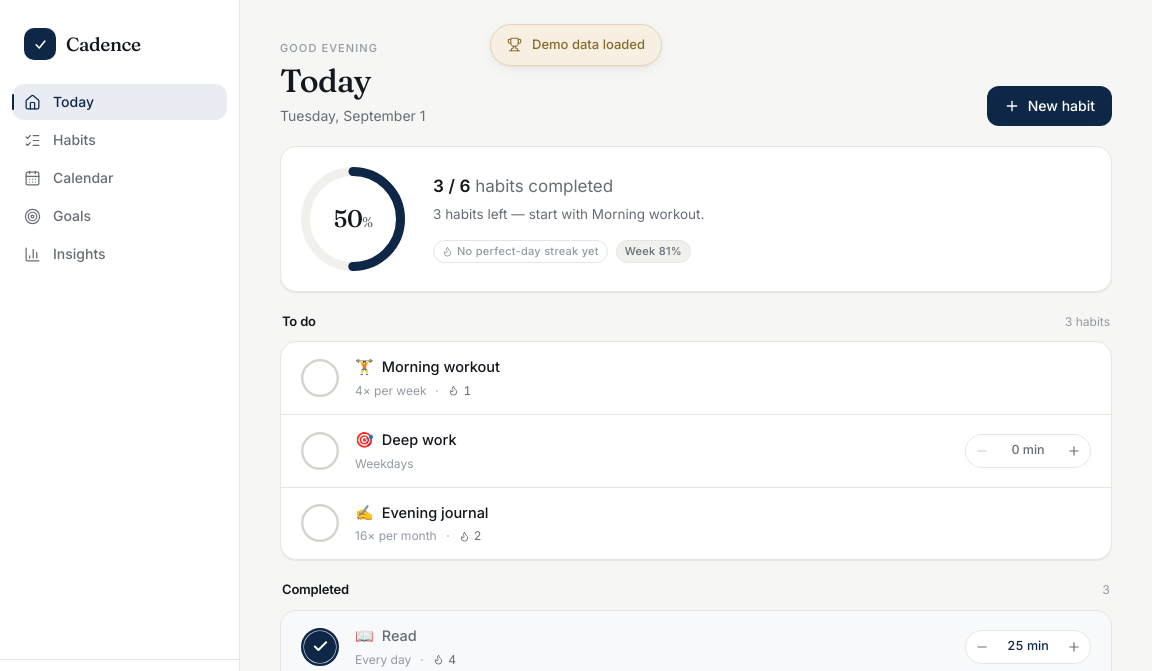
Test: navigation › renders every main screen
This screenshot has width=1152, height=671.
Click the link "Habits" at (60, 140), box [24,131,96,148]
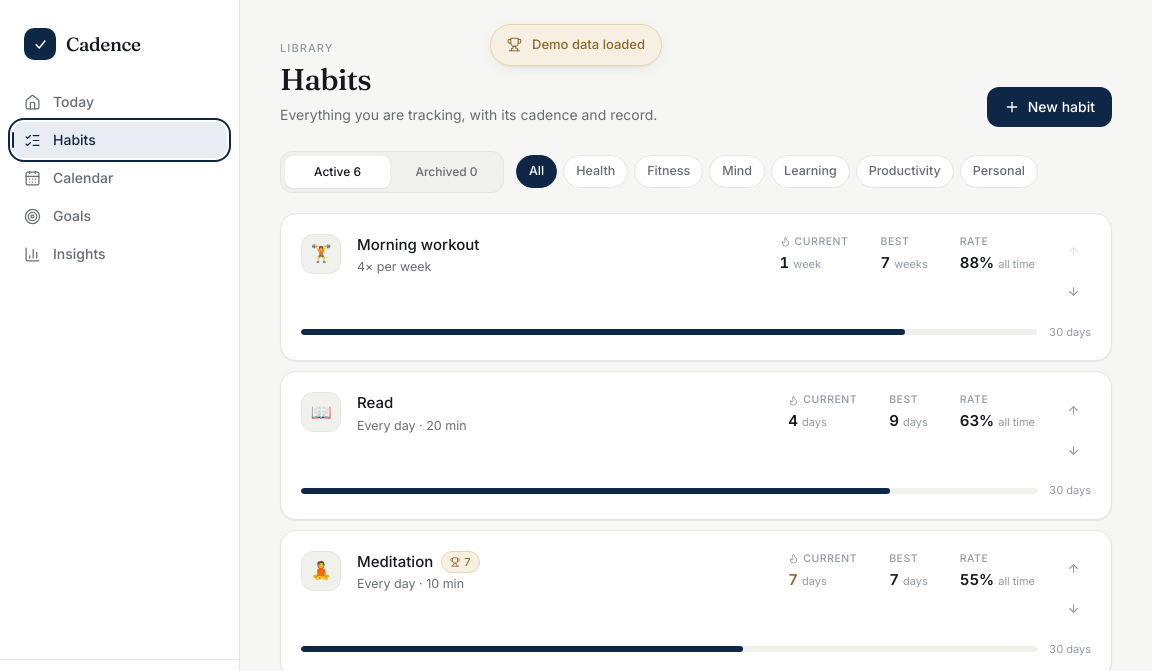
expect the heading "Habits" is shown: met, box [280,60,371,98]
Click the link "Calendar" at (69, 178), box [24,169,113,186]
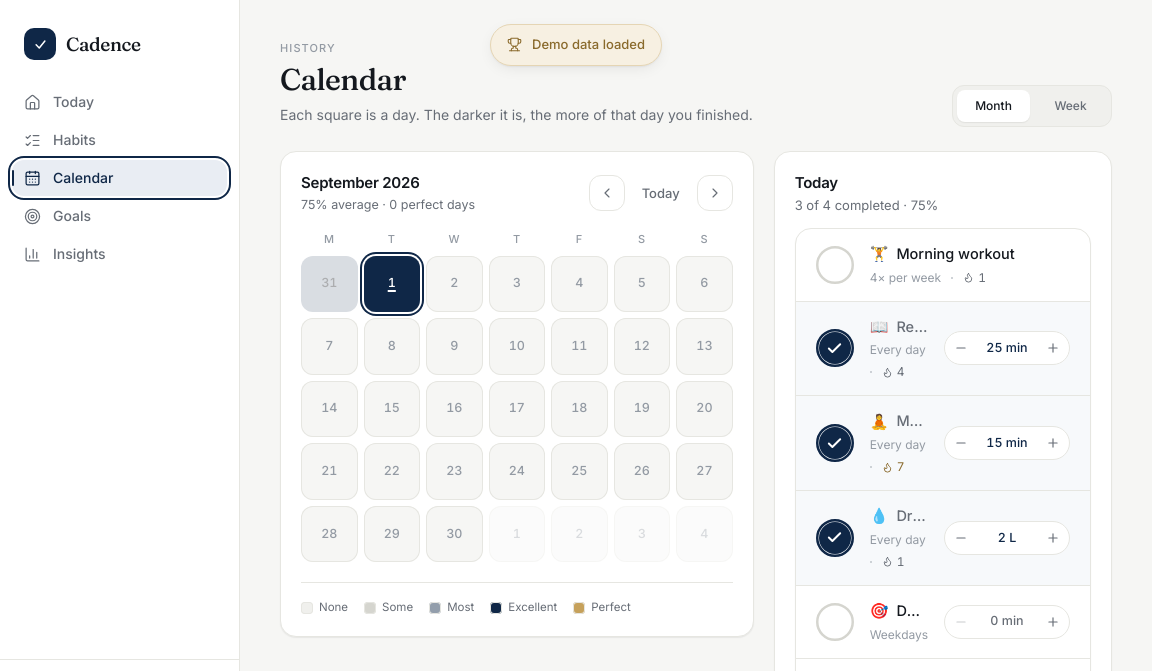
expect the heading "Calendar" is shown: met, box [280,60,406,98]
Click the link "Goals" at (58, 216), box [24,207,91,224]
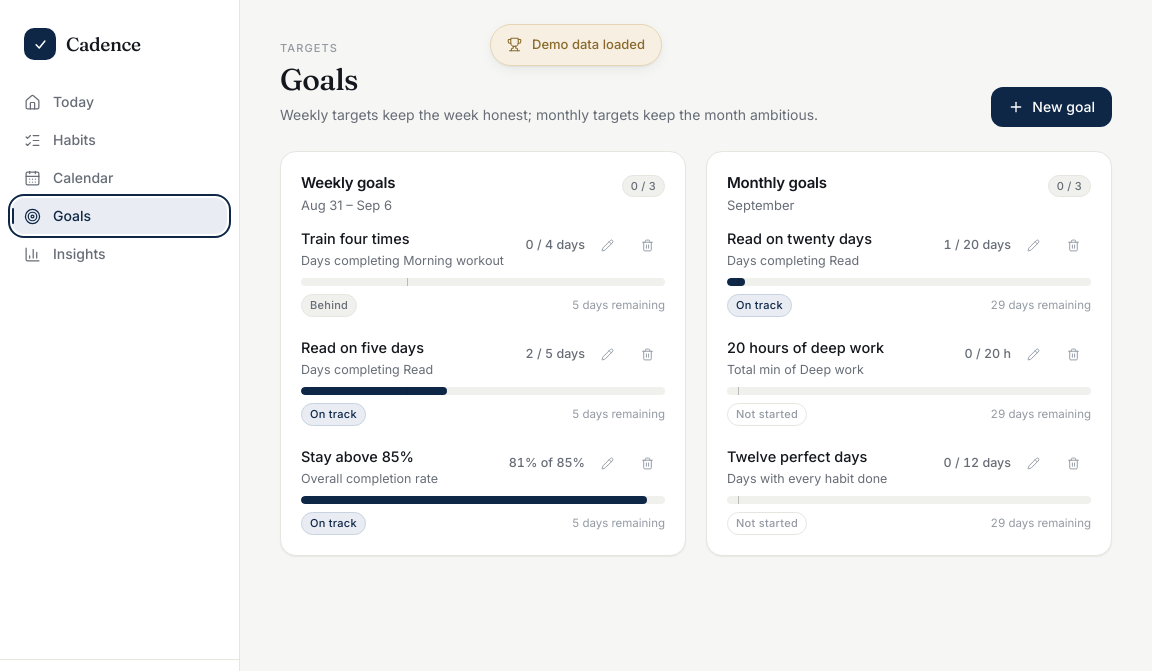
expect the heading "Goals" is shown: met, box [280,60,358,98]
Click the link "Insights" at (65, 254), box [24,245,106,262]
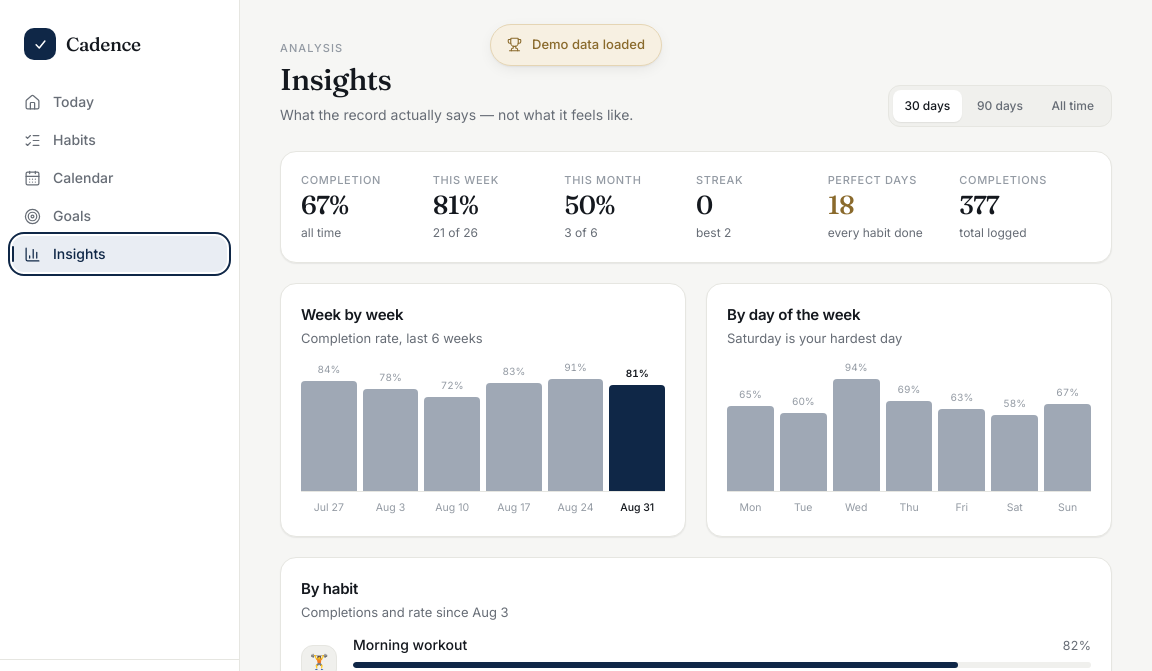
expect the heading "Insights" is shown: met, box [280,60,391,98]
